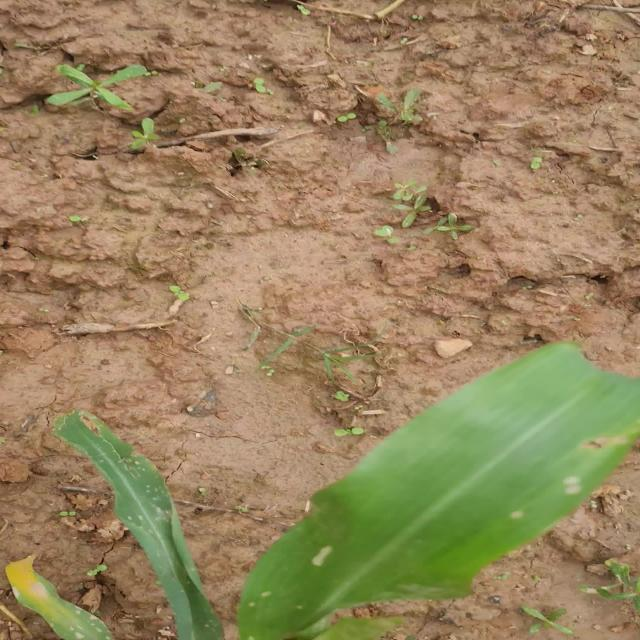maize: (4, 392, 640, 640)
weed: (214, 299, 396, 408), (369, 170, 507, 252), (45, 56, 176, 116), (369, 83, 440, 144), (516, 143, 586, 190), (237, 74, 279, 116), (123, 118, 190, 144)
